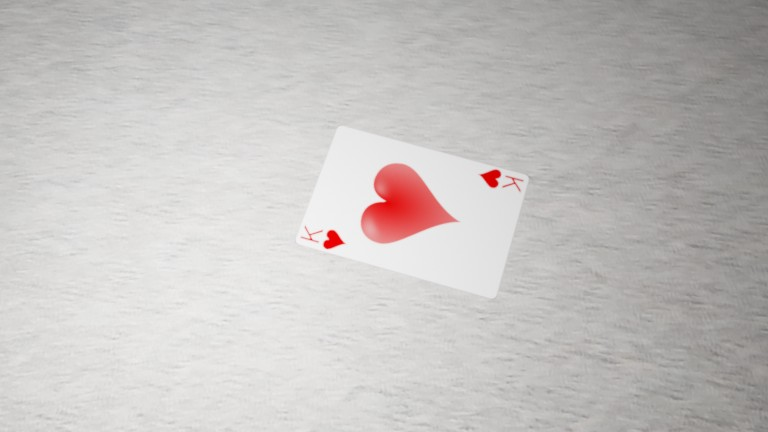king_of_hearts: (298, 220, 352, 256), (475, 164, 527, 198)
